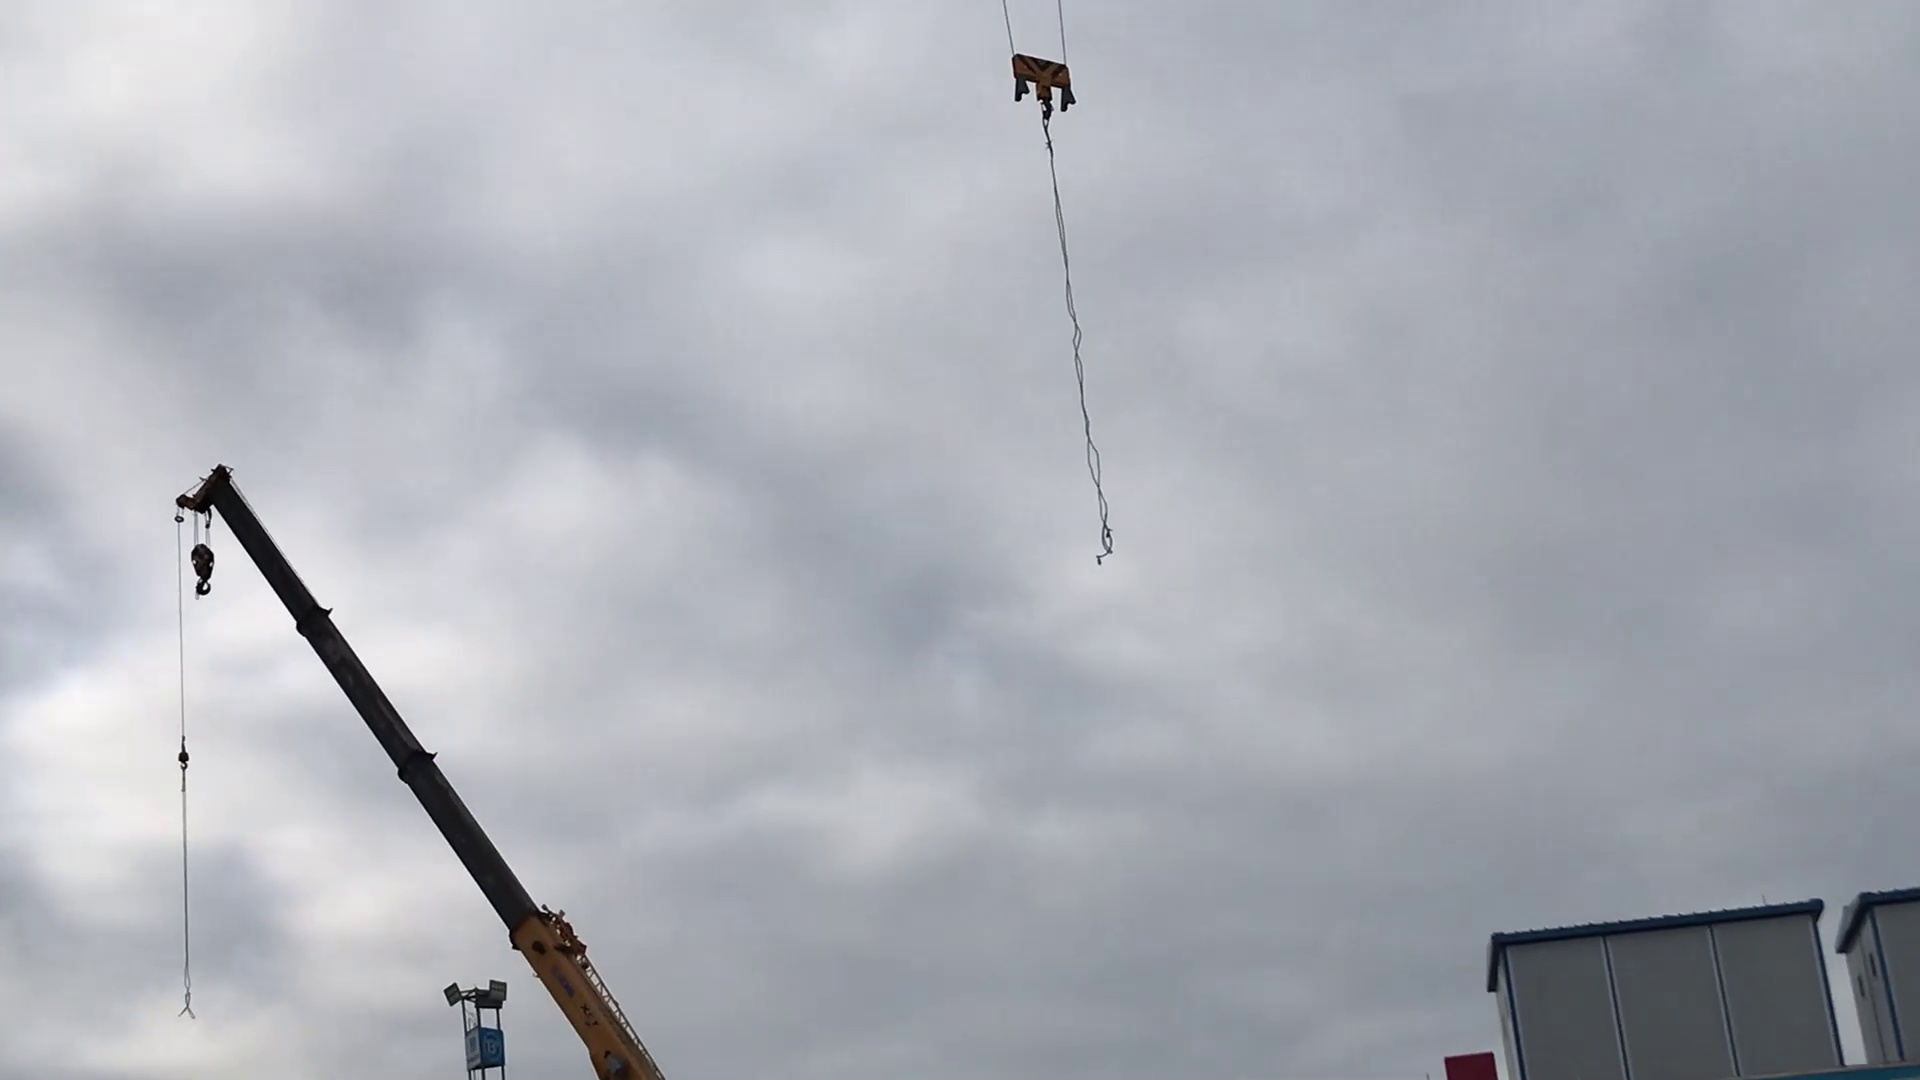hook: (998, 42, 1088, 129), (185, 541, 227, 607)
